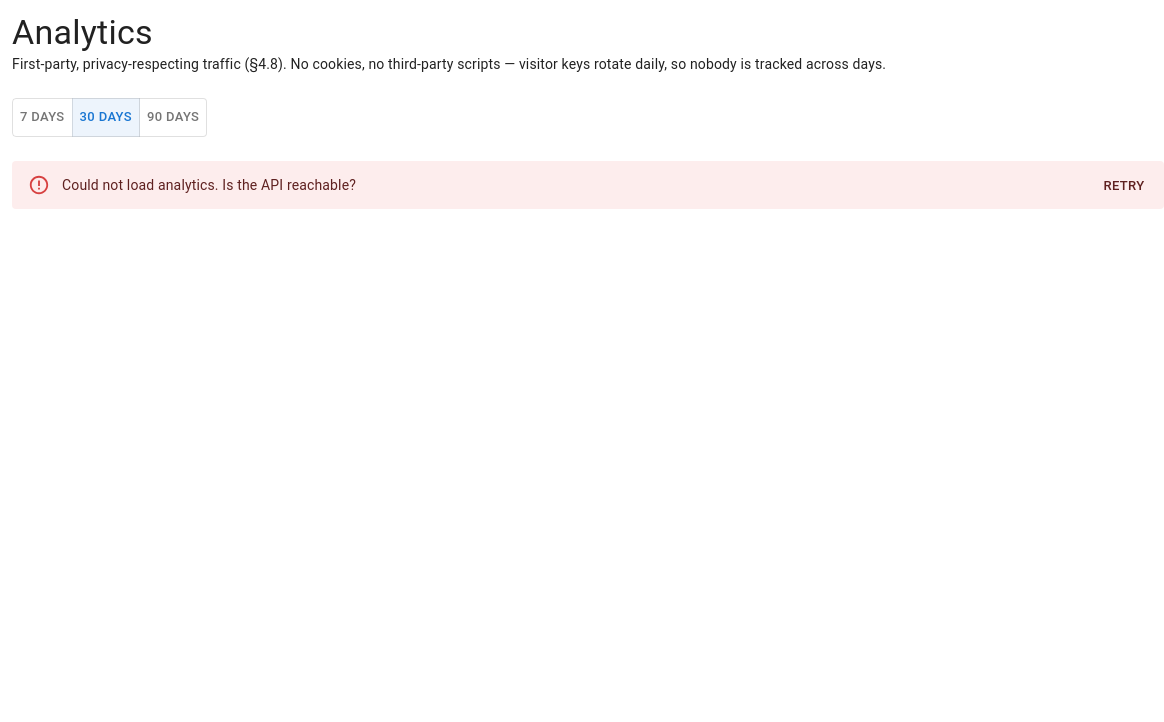
Test: AnalyticsPage — states › shows an error alert with Retry that refetches
expect the text "Could not load analytics. Is the API reachable?" is shown: met, box [62, 177, 356, 193]
What coordinates should you click on to do the following:
click the button "Retry"
I would click on:
 (1124, 186)
Its box is [1092, 171, 1156, 202].
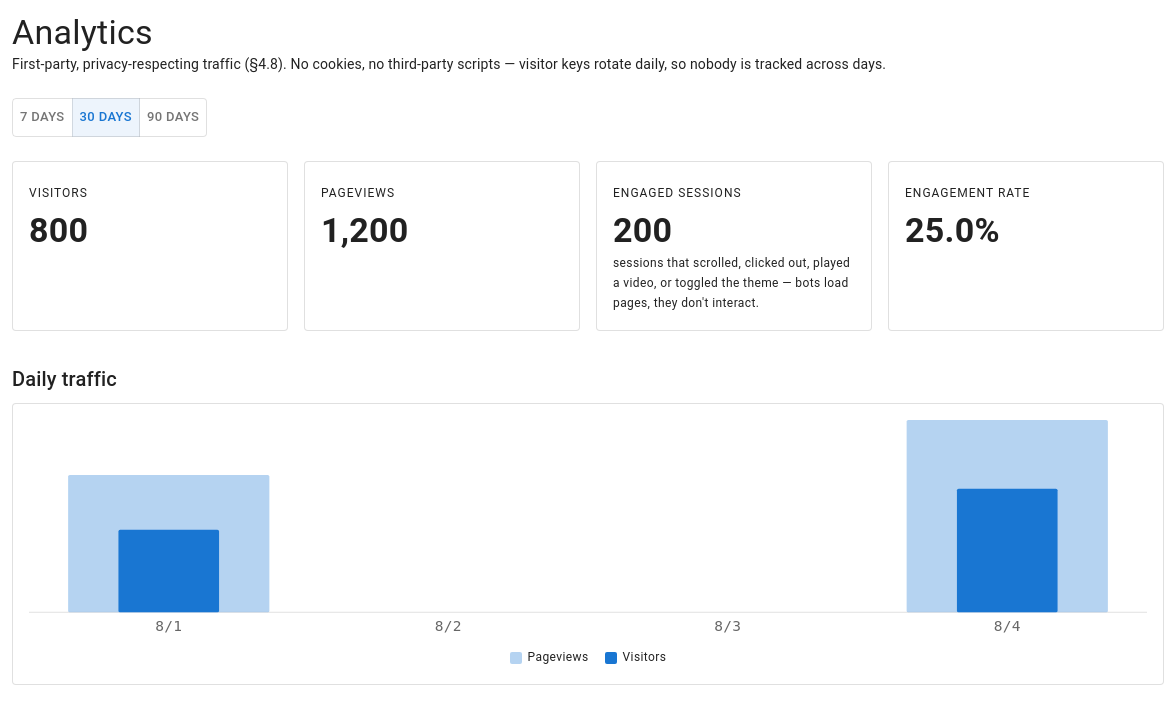
expect the text "Engagement rate" is shown: met, box [905, 186, 1030, 200]
